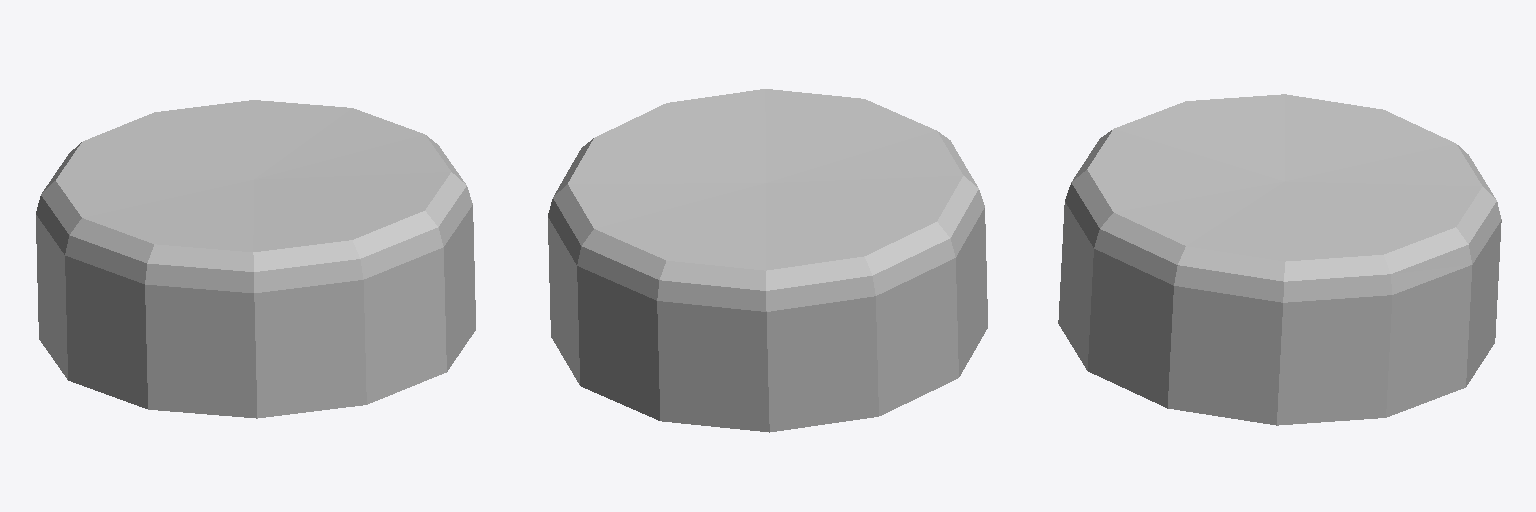
The model's file is button.obj.
The picture shows the model from 3 angles: view 1: azimuth 30°, elevation 25°; view 2: azimuth 150°, elevation 25°; view 3: azimuth 270°, elevation 25°; orthographic projection.
Visible parts, largest first — view 1: button1:group1 button1:menu_but button1:polySurface1; view 2: button1:group1 button1:menu_but button1:polySurface1; view 3: button1:group1 button1:menu_but button1:polySurface1.
Boxes of the visible parts, x1=… form: button1:group1 button1:menu_but button1:polySurface1: x1=36, y1=100, x2=475, y2=418; button1:group1 button1:menu_but button1:polySurface1: x1=548, y1=89, x2=987, y2=432; button1:group1 button1:menu_but button1:polySurface1: x1=1058, y1=94, x2=1501, y2=425.
Bounding box in the file's own units: 0.01 × 0.0044 × 0.0101.